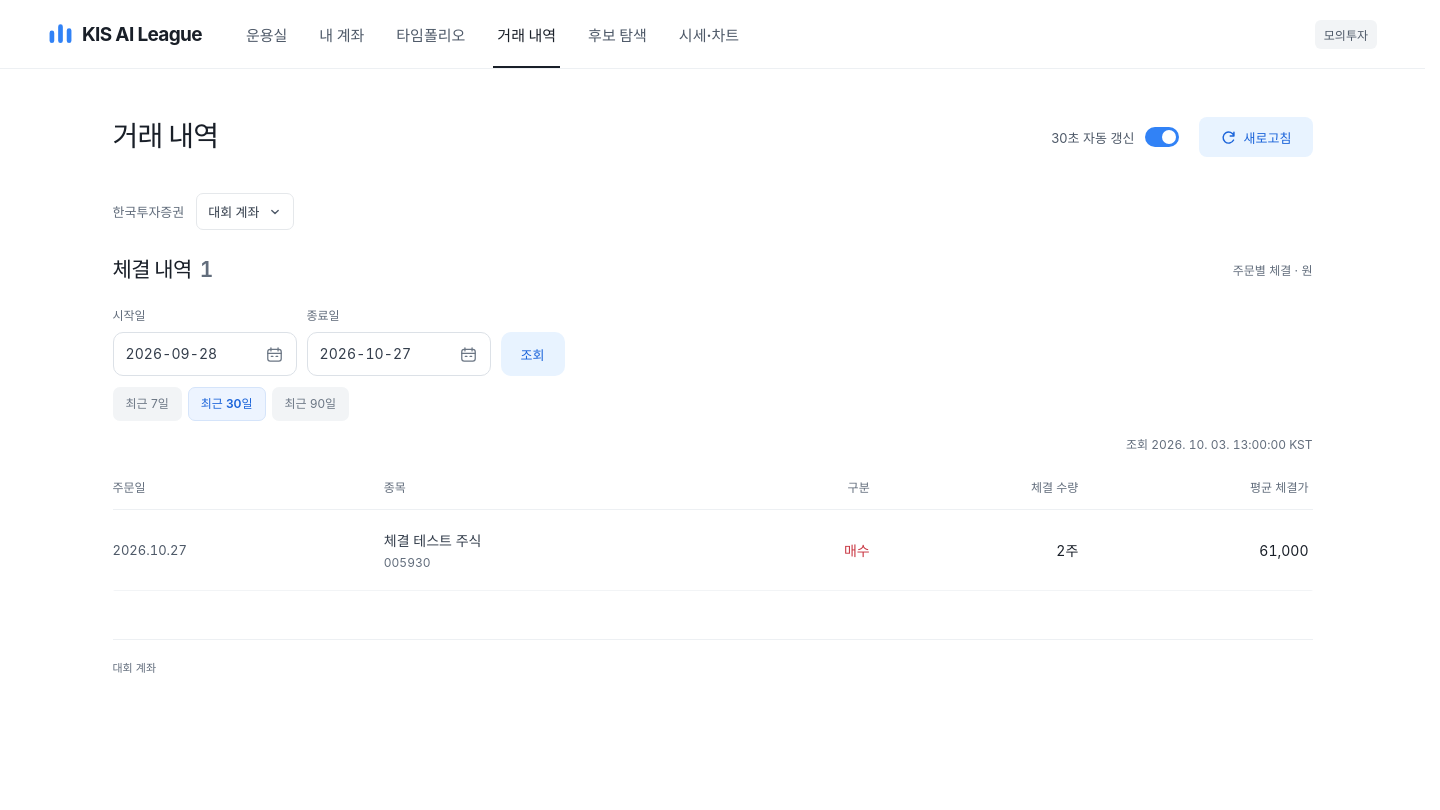
Scenario: trade history › clears cached trades for identity responses
This screenshot has width=1440, height=810.
Click the button "새로고침": (1256, 137) [1198, 117, 1312, 157]
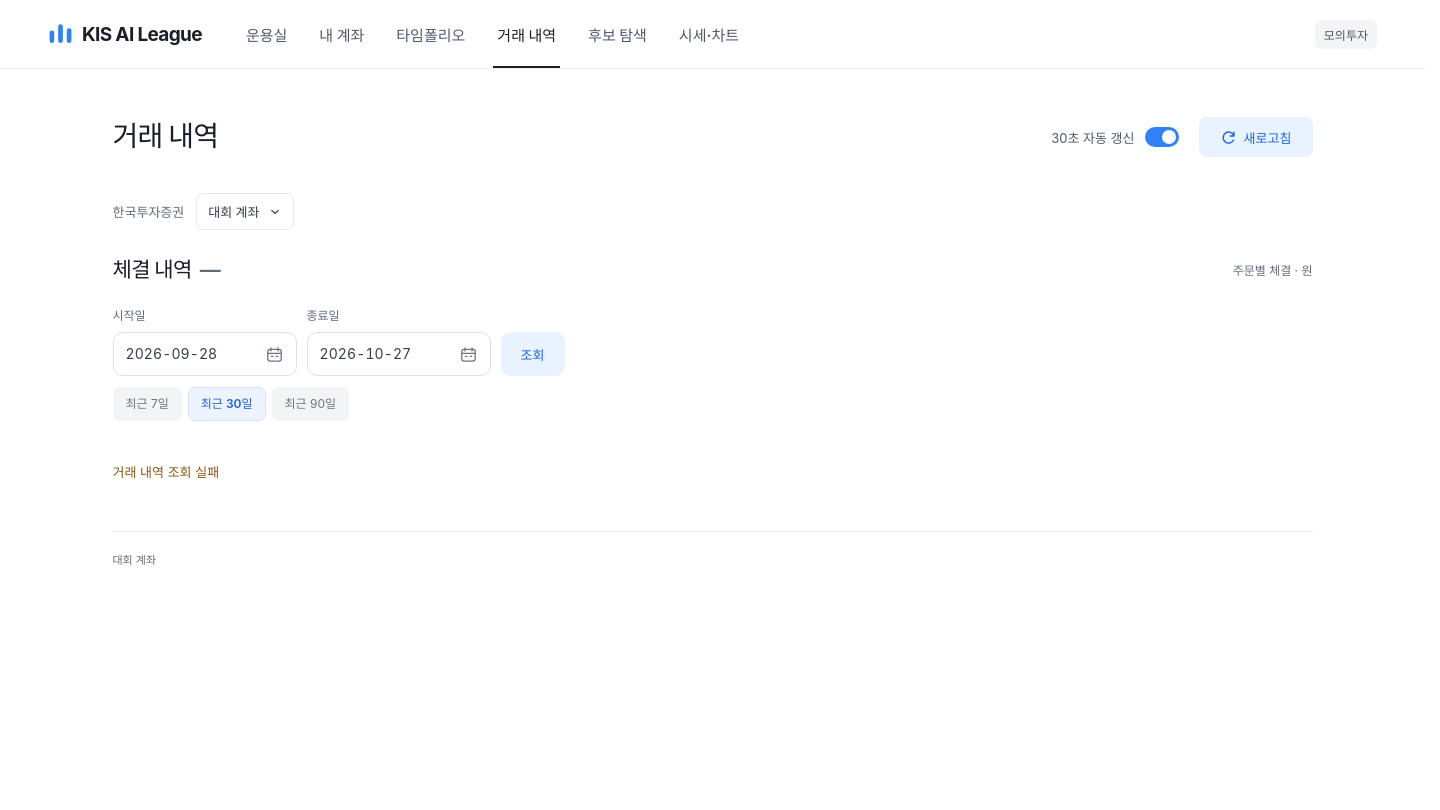
Check: the message "거래 내역 조회 실패" is shown, box [112, 464, 219, 480]
